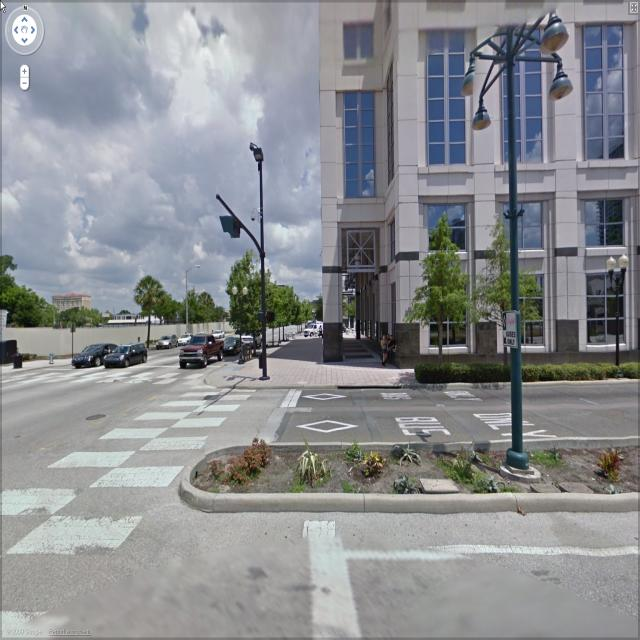b_1: (316, 11, 636, 382)
b_2: (51, 290, 94, 328)
